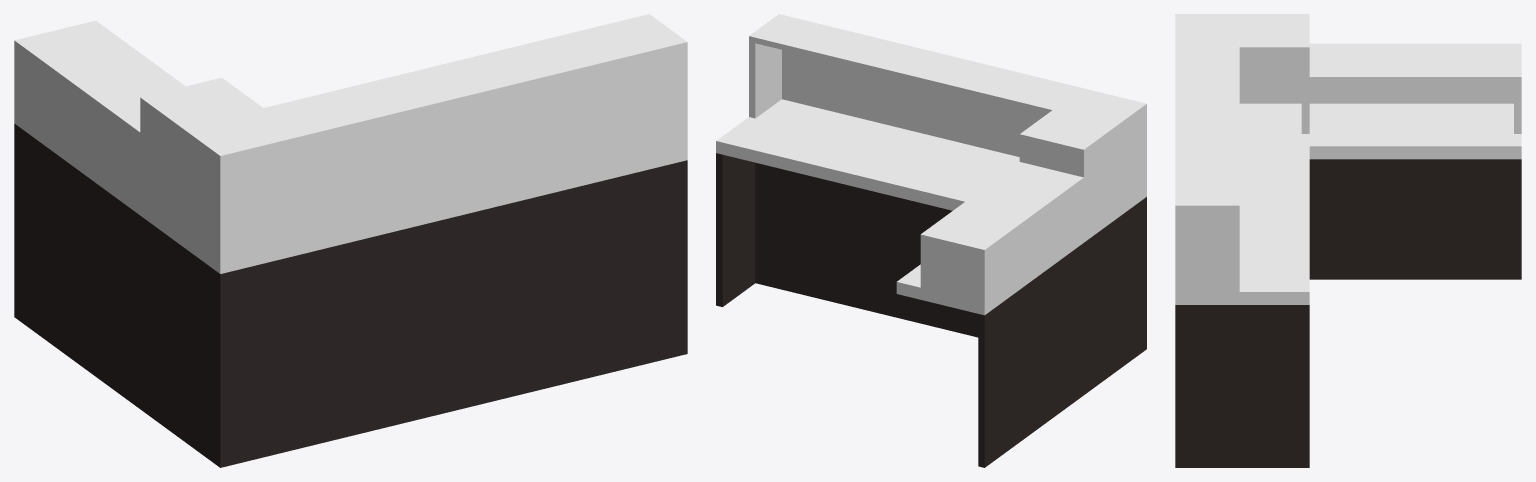
File: gate_desk.fbx
The picture shows the model from 3 angles, left to right: view 1: azimuth 30°, elevation 25°; view 2: azimuth 150°, elevation 25°; view 3: azimuth 270°, elevation 25°; orthographic projection. The views are drawn at different scales.
Visible parts, largest first — view 1: gate_desk; view 2: gate_desk; view 3: gate_desk.
Part boxes in pixels (x1,y1,x2,y2): gate_desk: (14,14,687,467); gate_desk: (716,14,1146,467); gate_desk: (1175,14,1521,467).
Bounding box in the file's own units: 0.0124 × 0.00789 × 0.00944.
Materials: 1 (1 with a texture image).
